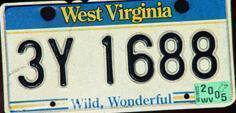placa de veiculo: (2, 2, 232, 108)
